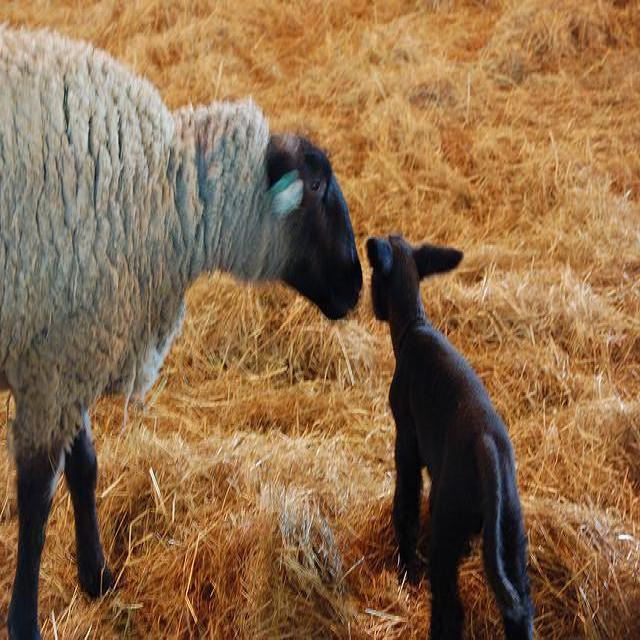Sheep: (0, 32, 363, 631), (364, 233, 537, 634)
